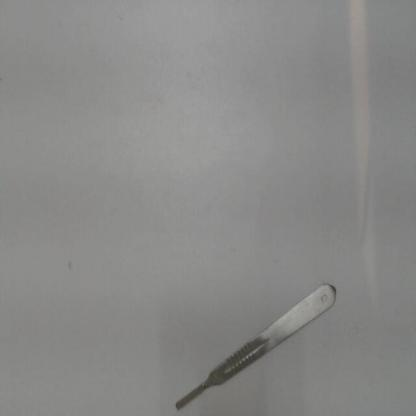No.4 BP Handle: (171, 275, 343, 415)
